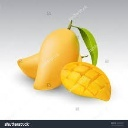mango: (33, 24, 80, 90)
